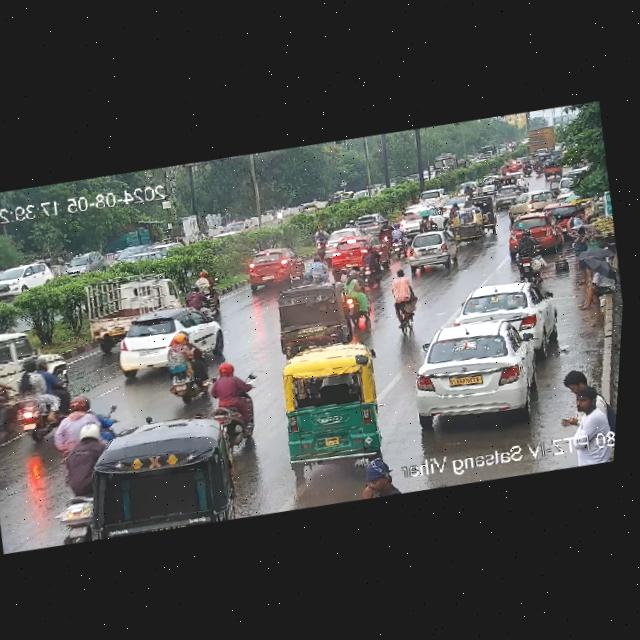bus: (267, 336, 390, 465)
car: (60, 407, 252, 546), (402, 307, 561, 437), (106, 298, 232, 379), (451, 274, 557, 350), (267, 277, 358, 356), (399, 226, 465, 272), (238, 243, 301, 290), (0, 258, 59, 304), (0, 324, 37, 390), (113, 231, 182, 266), (327, 232, 384, 274), (504, 213, 560, 250), (502, 185, 562, 217), (62, 244, 113, 278), (446, 207, 489, 245), (396, 201, 441, 235), (349, 211, 388, 233), (488, 183, 527, 205), (475, 200, 498, 234), (414, 185, 447, 206)
motorcycle: (40, 424, 122, 539), (42, 394, 113, 476), (1, 355, 67, 442), (200, 356, 262, 443), (153, 328, 213, 402), (354, 242, 388, 286), (183, 282, 218, 312), (308, 225, 335, 260), (382, 223, 411, 255), (414, 210, 439, 233)
person: (554, 387, 612, 443), (385, 266, 423, 332), (568, 264, 618, 310), (351, 471, 411, 501), (507, 226, 542, 260), (302, 250, 333, 287), (560, 366, 595, 395)
truck: (77, 268, 190, 343)
